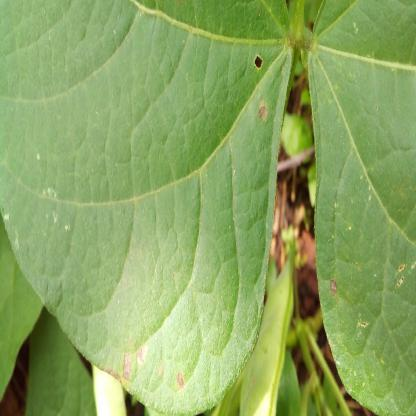Beans_Angular_LeafSpot: (0, 0, 292, 412), (310, 0, 416, 410)
